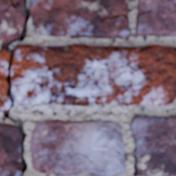brick: (30, 120, 124, 175), (29, 0, 130, 38), (131, 115, 175, 175), (136, 0, 175, 35), (0, 124, 21, 175), (0, 0, 23, 40), (0, 0, 8, 9)
broken_brick: (13, 43, 175, 106), (0, 50, 9, 111)
crack: (0, 0, 31, 175), (0, 0, 19, 14), (135, 44, 158, 53), (101, 14, 128, 20)
